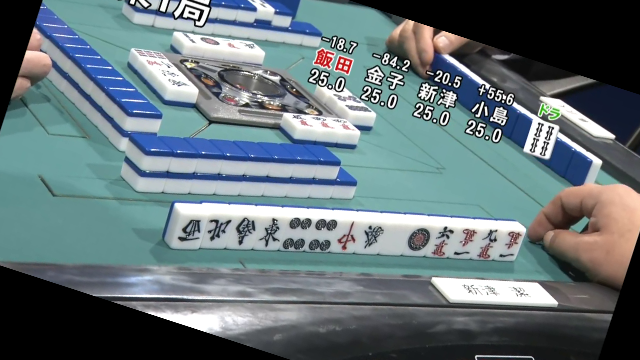Tehai: (155, 194, 524, 271)
